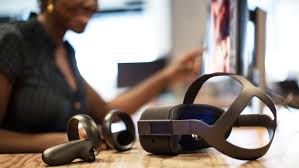oculus: (136, 101, 242, 156)
